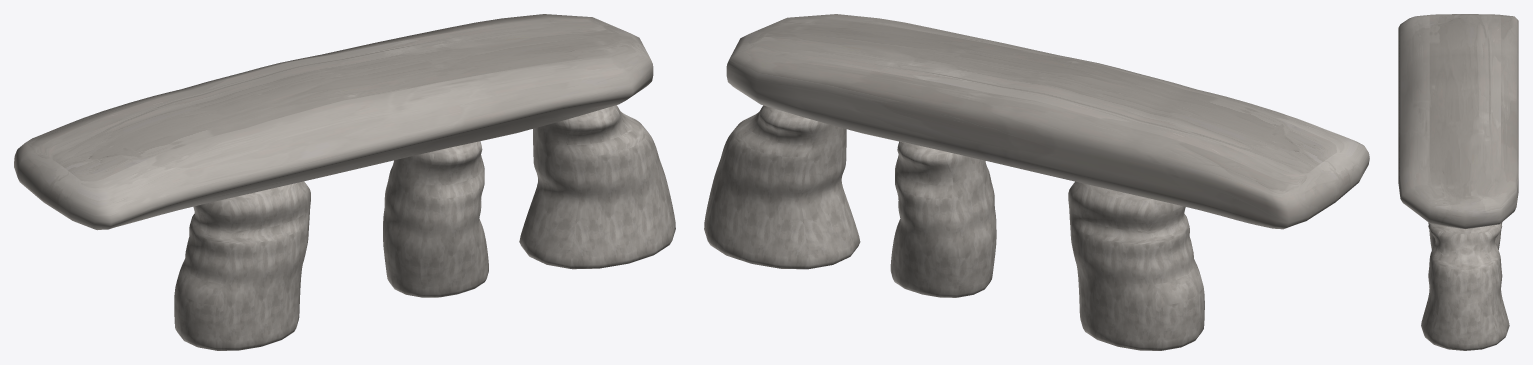
Rendered from CaveWorkbenchStone.fbx.
3 renders of one model, left to right at view 1: azimuth 30°, elevation 25°; view 2: azimuth 150°, elevation 25°; view 3: azimuth 270°, elevation 25°, orthographic. The views are drawn at different scales.
Parts seen in each view (by area): view 1: CaveWorkBenchStone; view 2: CaveWorkBenchStone; view 3: CaveWorkBenchStone.
Part boxes in pixels (x1,y1,x2,y2): CaveWorkBenchStone: (14, 14, 675, 350); CaveWorkBenchStone: (704, 14, 1369, 350); CaveWorkBenchStone: (1398, 14, 1518, 350).
Bounding box in the file's own units: 1255 × 454 × 310.
1 material, 1 textured.
